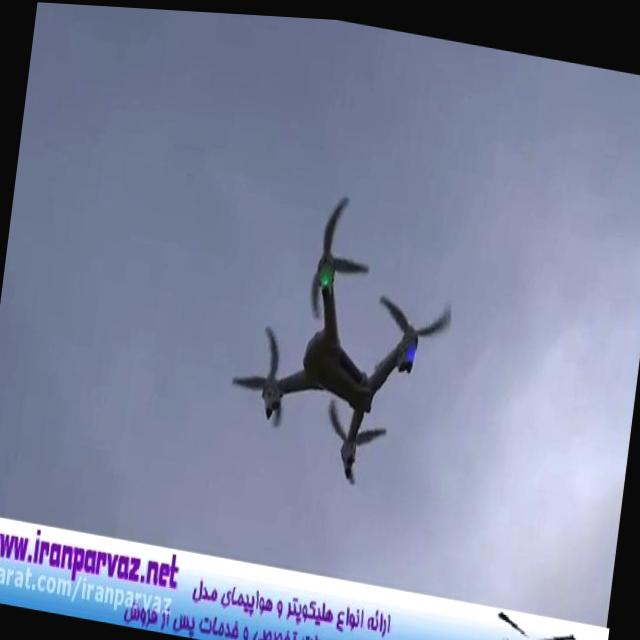drone: (218, 167, 467, 497)
